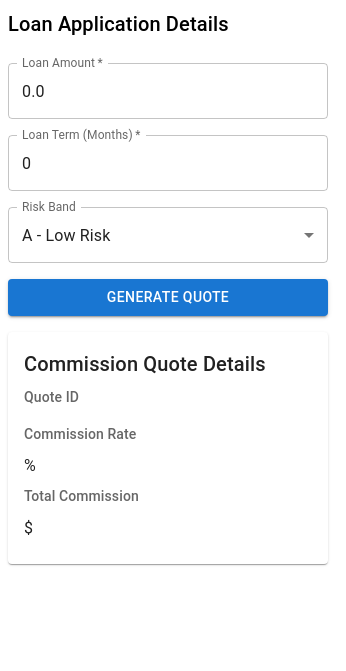
Test: renders an error message and default values on failed submit
Replace the text in the number field with test id "loan-amount-input" with "10000". click: point(168, 91)
box: [8,63,328,119]
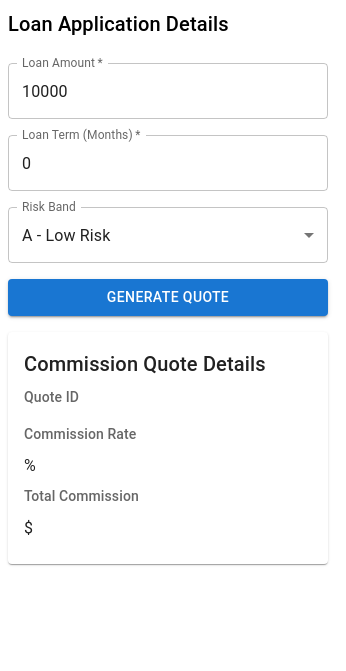
Replace the text in the number field with test id "loan-term-months-input" with "24". click: point(168, 163)
box: [8,135,328,191]
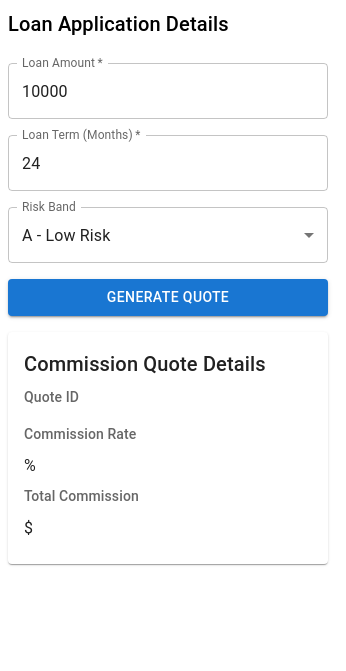
Click the button with test id "generate-quote-button". click: point(168, 297)
box: [8,279,328,316]
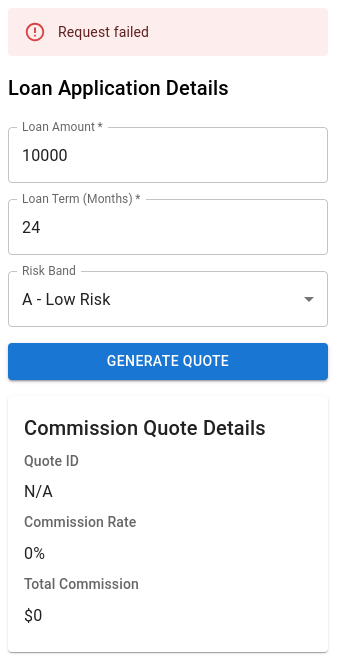
Expected: the message with test id "quote-error-alert" reads "Request failed", [58,24,149,40]
Expected: the text with test id "quote-id-value" reads "N/A", [24,482,53,502]
Expected: the text with test id "commission-rate-value" reads "0%", [24,544,45,564]
